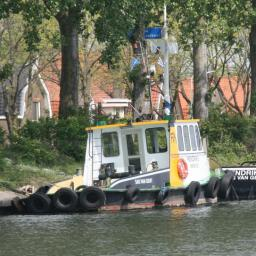tugboat: (10, 111, 237, 220)
